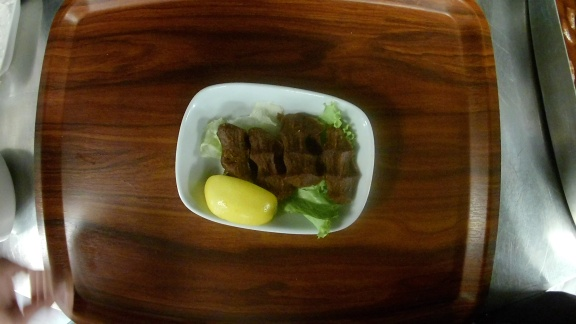cigkofte: (175, 81, 375, 236)
